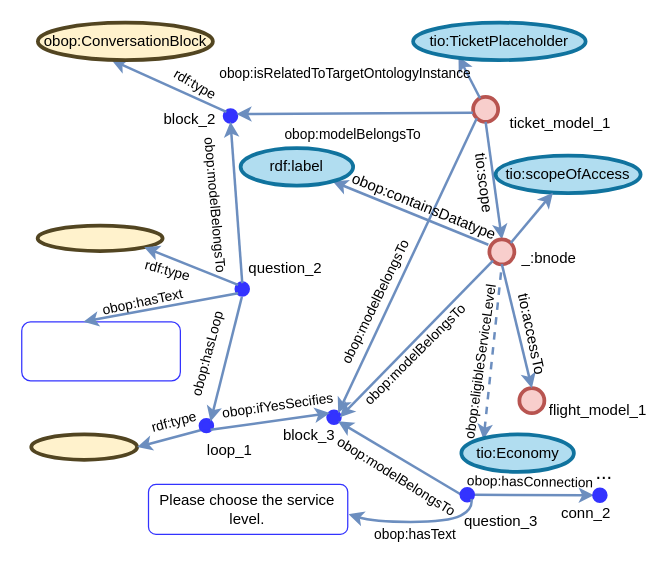
This 670x569 diagram has some shape labels left out. Here are the shapes that lost their labels. From the top down, the centre of each, then its label:
At pixel 99 237: "obop:Question".
At pixel 100 351: "Do you want to define one more ticket type?".
At pixel 83 446: "obop:Loop".
